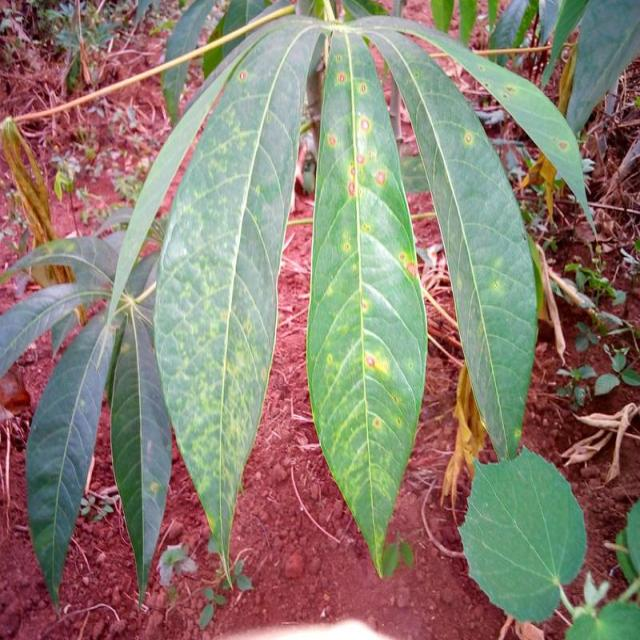cassava leaf: (151, 13, 325, 588), (350, 18, 540, 462), (305, 26, 429, 578), (456, 444, 587, 624)
